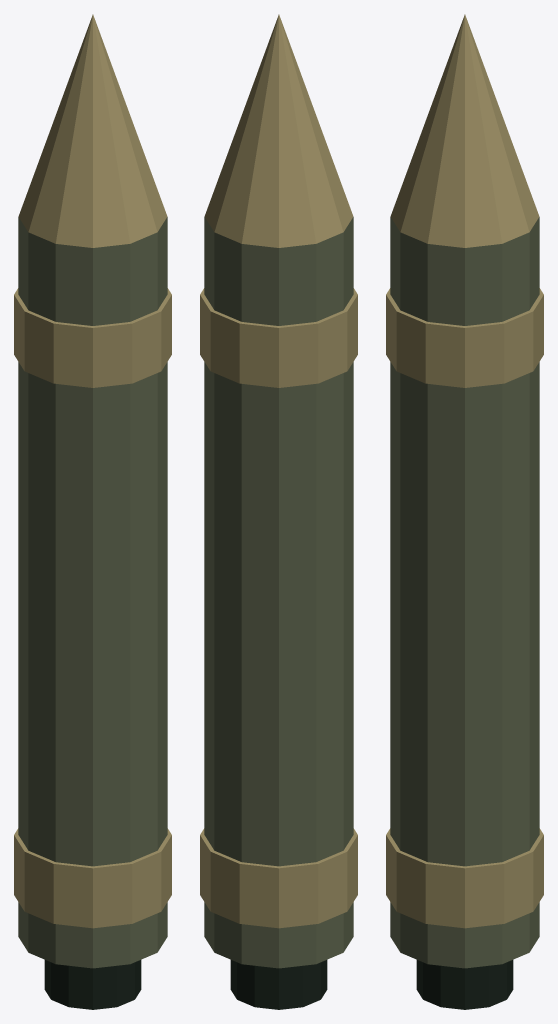
The model's file is projectile_bullet.obj.
3 renders of one model, left to right at view 1: azimuth 30°, elevation 25°; view 2: azimuth 150°, elevation 25°; view 3: azimuth 270°, elevation 25°, orthographic.
Visible parts, largest first — view 1: projectile_bullet; view 2: projectile_bullet; view 3: projectile_bullet.
Boxes of the visible parts, bbox=[...] form: projectile_bullet: bbox=[14, 14, 171, 1009]; projectile_bullet: bbox=[200, 14, 357, 1009]; projectile_bullet: bbox=[386, 14, 543, 1009].
Bounding box in the file's own units: 0.0954 × 0.65 × 0.0954.
1 material, 1 textured.
